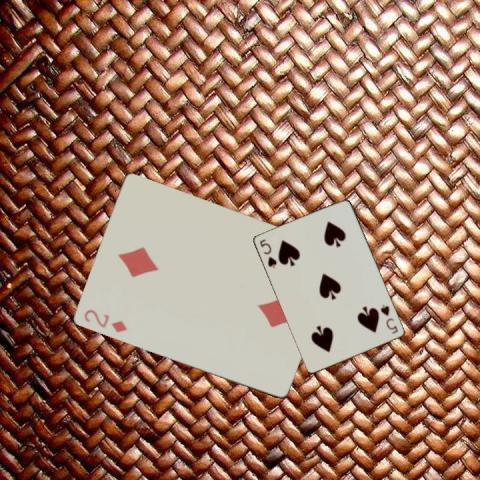2d: (81, 306, 128, 334)
5s: (256, 236, 278, 269), (378, 302, 399, 336)
